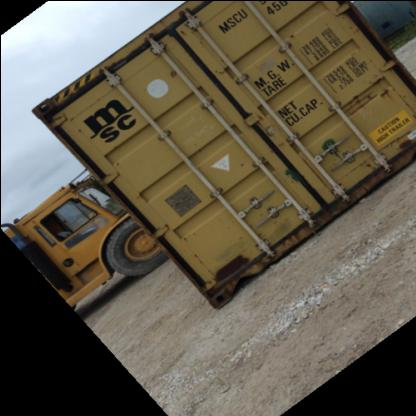Damage: (199, 244, 252, 290), (348, 78, 392, 110), (388, 129, 415, 157), (160, 56, 186, 80), (321, 134, 347, 158), (280, 161, 304, 187), (357, 156, 379, 178), (274, 26, 296, 46)
